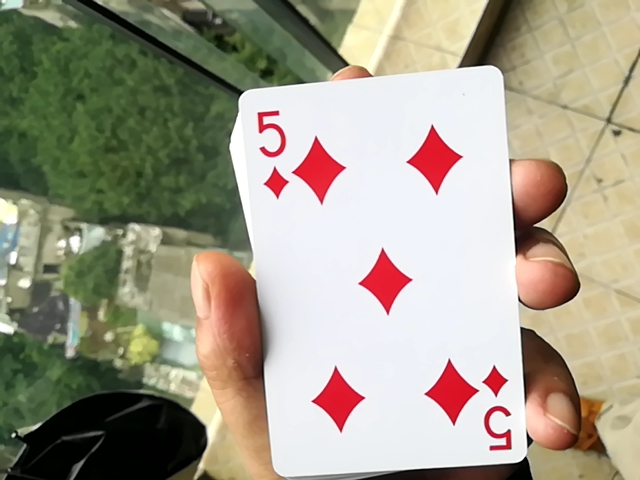fk 5: (213, 52, 538, 476)
